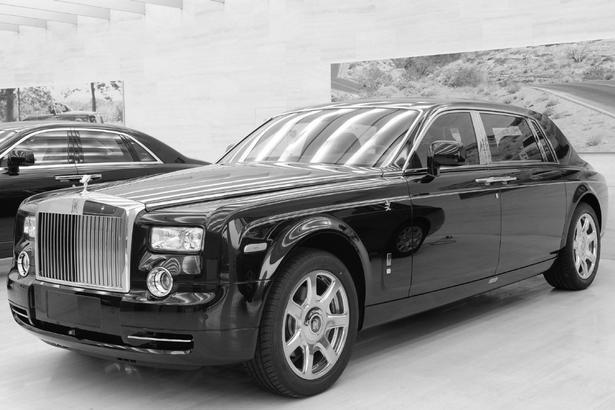car: (6, 102, 609, 410)
